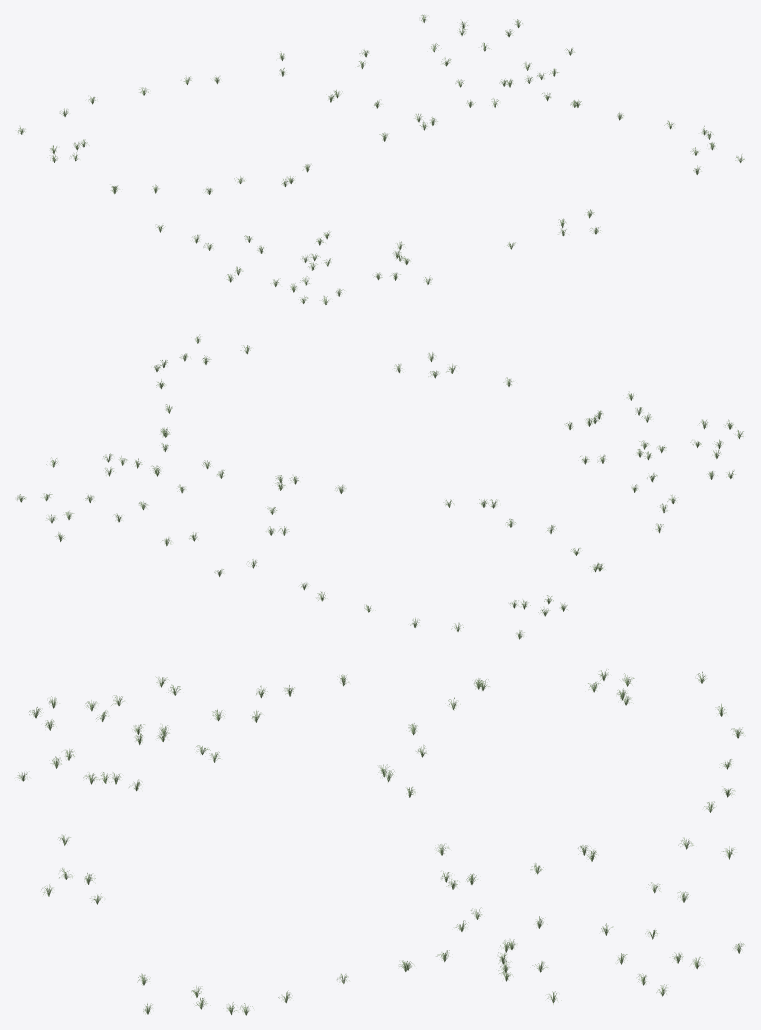
File: xiyuan-vegetation-36-near.glb
3 views of the same model, one above another, from view 1: azimuth 30°, elevation 25°; view 2: azimuth 150°, elevation 25°; view 3: azimuth 270°, elevation 25° (orthographic). The views are drawn at different scales.
Parts seen in each view (by area): view 1: mondo grass.001; view 2: mondo grass.001; view 3: mondo grass.001.
Boxes of the visible parts, x1,y1,x2,y2 form: mondo grass.001: (18,14,744,304); mondo grass.001: (17,334,743,639); mondo grass.001: (17,669,745,1015).
Size of the model in its own units: 32.94 by 0.4756 by 29.86.
